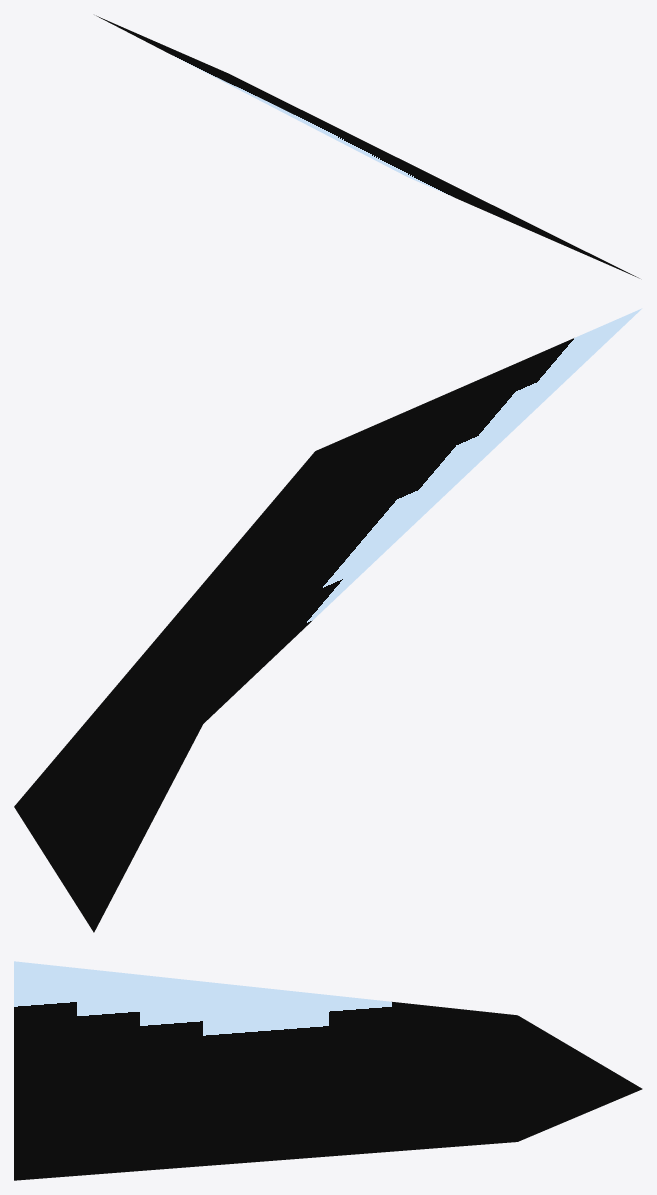
3 renders of one model, top to bottom at view 1: azimuth 30°, elevation 25°; view 2: azimuth 150°, elevation 25°; view 3: azimuth 270°, elevation 25°, orthographic. The views are drawn at different scales.
Size of the model in its own units: 0.2959 by 0.1925 by 0.8584.
1 material, 1 textured.
